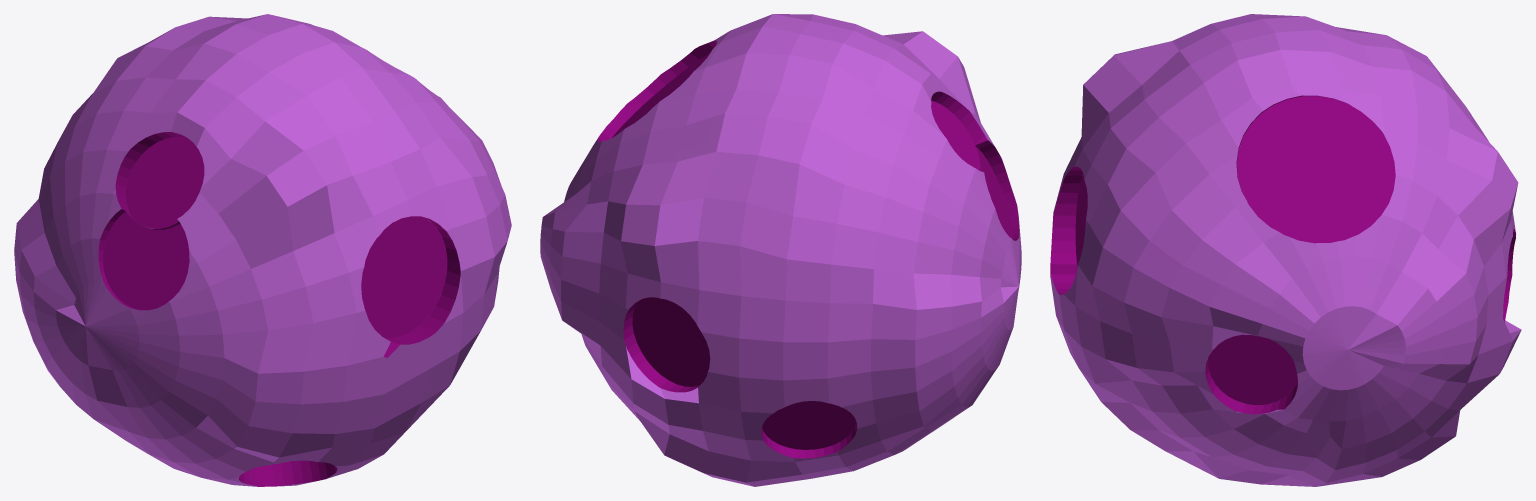
Rendered from meteorLarge.obj.
The picture shows the model from 3 angles, left to right: view 1: azimuth 30°, elevation 25°; view 2: azimuth 150°, elevation 25°; view 3: azimuth 270°, elevation 25°; orthographic projection. The views are drawn at different scales.
Parts seen in each view (by area): view 1: 球; view 2: 球; view 3: 球.
Part boxes in pixels (x1=…): 球: x1=14, y1=14, x2=511, y2=486; 球: x1=540, y1=14, x2=1021, y2=486; 球: x1=1050, y1=14, x2=1521, y2=486.
Size of the model in its own units: 3.8 by 3.72 by 3.66.
